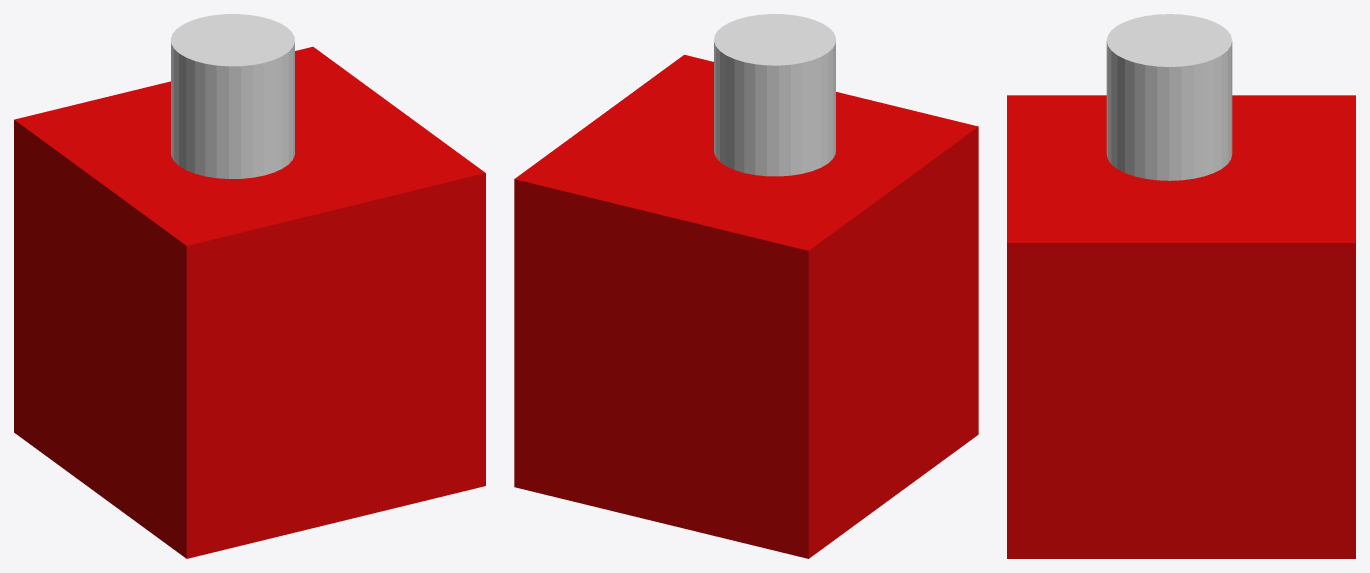
3 renders of one model, left to right at view 1: azimuth 30°, elevation 25°; view 2: azimuth 150°, elevation 25°; view 3: azimuth 270°, elevation 25°, orthographic. The views are drawn at different scales.
Parts seen in each view (by area): view 1: Mesh, Cylinder; view 2: Mesh, Cylinder; view 3: Mesh, Cylinder.
Part boxes in pixels (x1,y1,x2,y2): Mesh: (14, 46, 485, 558); Cylinder: (171, 14, 294, 178); Mesh: (514, 54, 978, 558); Cylinder: (714, 14, 835, 176); Mesh: (1007, 95, 1355, 558); Cylinder: (1106, 14, 1232, 180).
Size of the model in its own units: 1 by 1.37 by 1.
